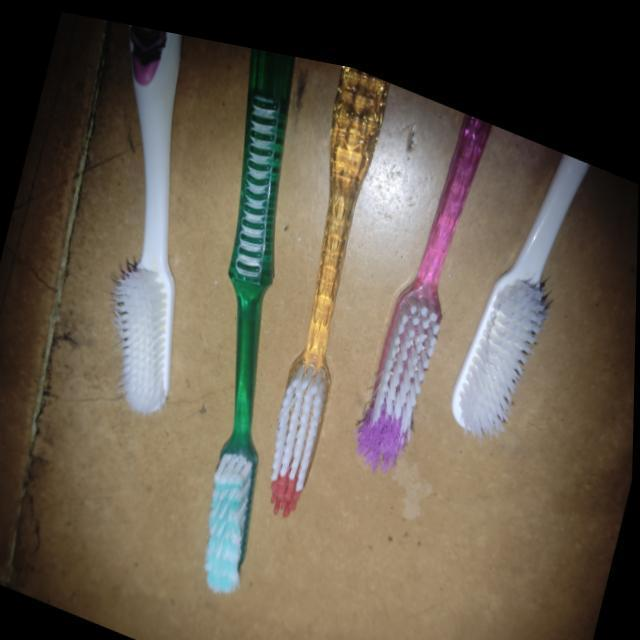toothbrush: (259, 49, 394, 524), (197, 35, 307, 608), (343, 88, 502, 471), (439, 124, 607, 459), (105, 19, 188, 423)
